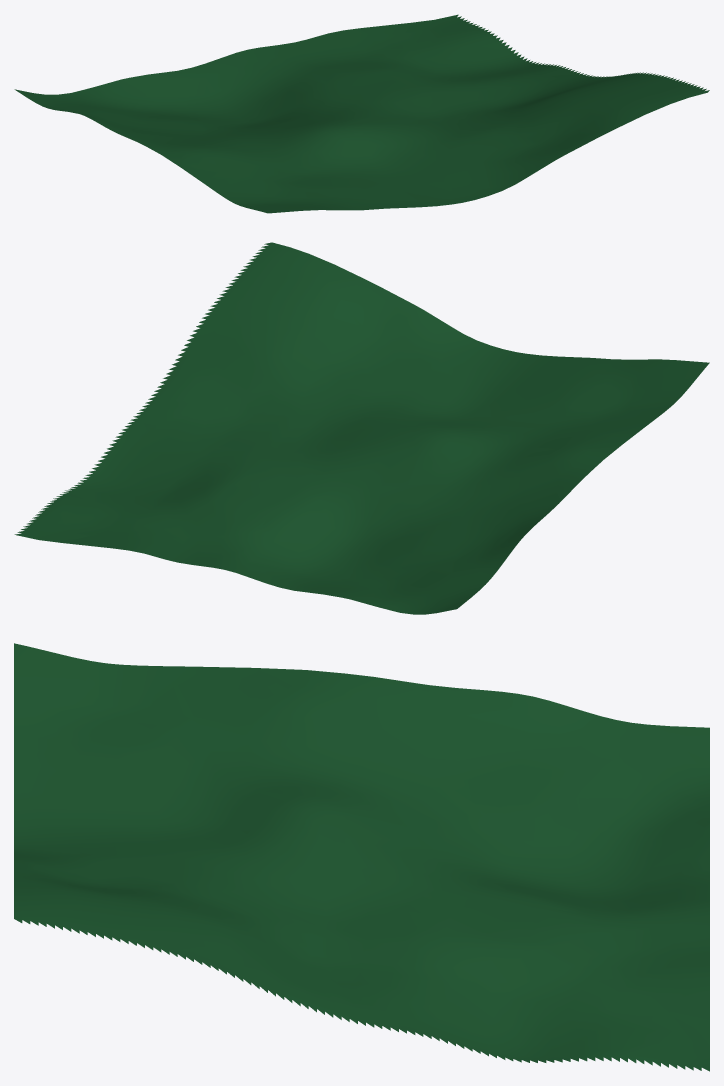
The model's file is payo_land_xm1_ym3_lod2.glb.
The picture shows the model from 3 angles, top to bottom: view 1: azimuth 30°, elevation 25°; view 2: azimuth 150°, elevation 25°; view 3: azimuth 270°, elevation 25°; orthographic projection. The views are drawn at different scales.
Parts seen in each view (by area): view 1: payo_land_xm1_ym3; view 2: payo_land_xm1_ym3; view 3: payo_land_xm1_ym3.
Part boxes in pixels (box(x1,y1,x2,y2)): payo_land_xm1_ym3: box(14, 14, 709, 213); payo_land_xm1_ym3: box(14, 242, 709, 614); payo_land_xm1_ym3: box(14, 643, 709, 1071).
Size of the model in its own units: 258 by 60.37 by 255.
